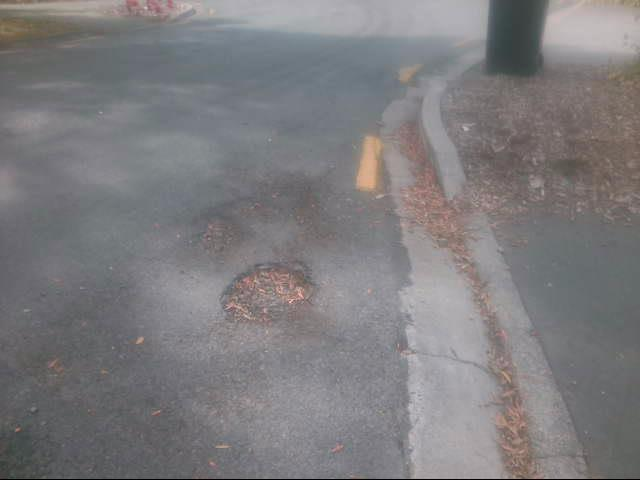pothole: (217, 262, 319, 326)
